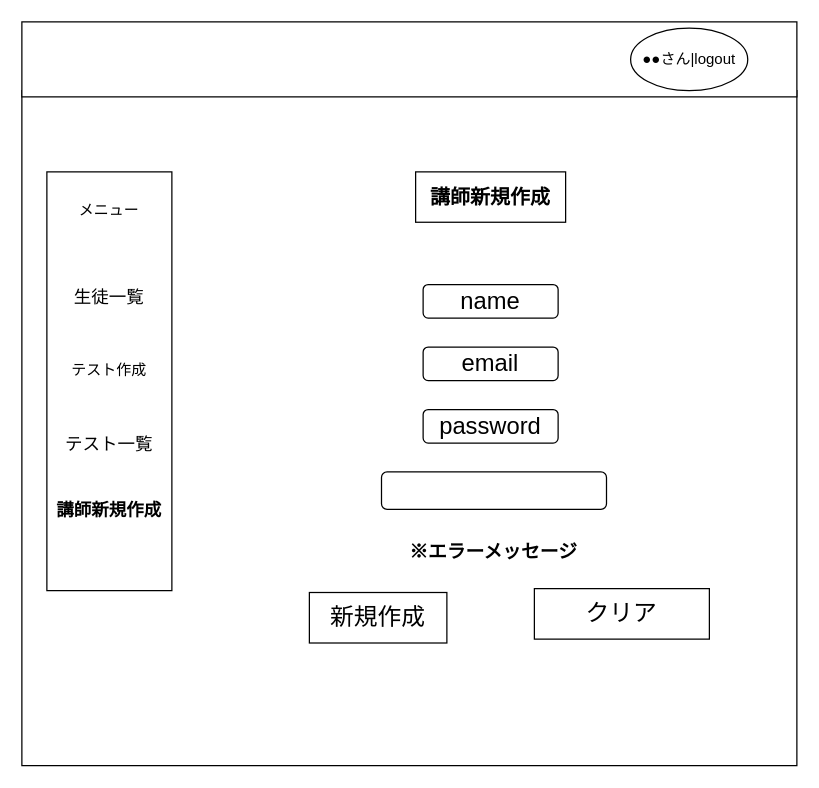
Image size: 819x788. Some labels were removed from this diagram. The shapes that lost their labels are listed below. From the top down, each one's box as (x1, y1, x2, y2) in pixels, then its label:
(21, 21, 797, 97): ヘッダ
(380, 471, 606, 509): password(確認用)
